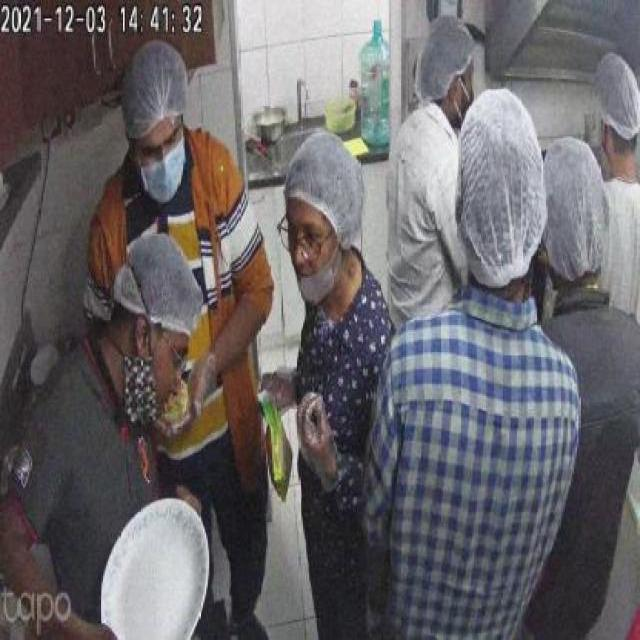hairnet: (458, 85, 548, 280), (545, 137, 611, 280), (288, 127, 366, 239), (118, 232, 202, 334), (122, 42, 190, 130), (414, 8, 472, 98), (593, 47, 640, 142)
